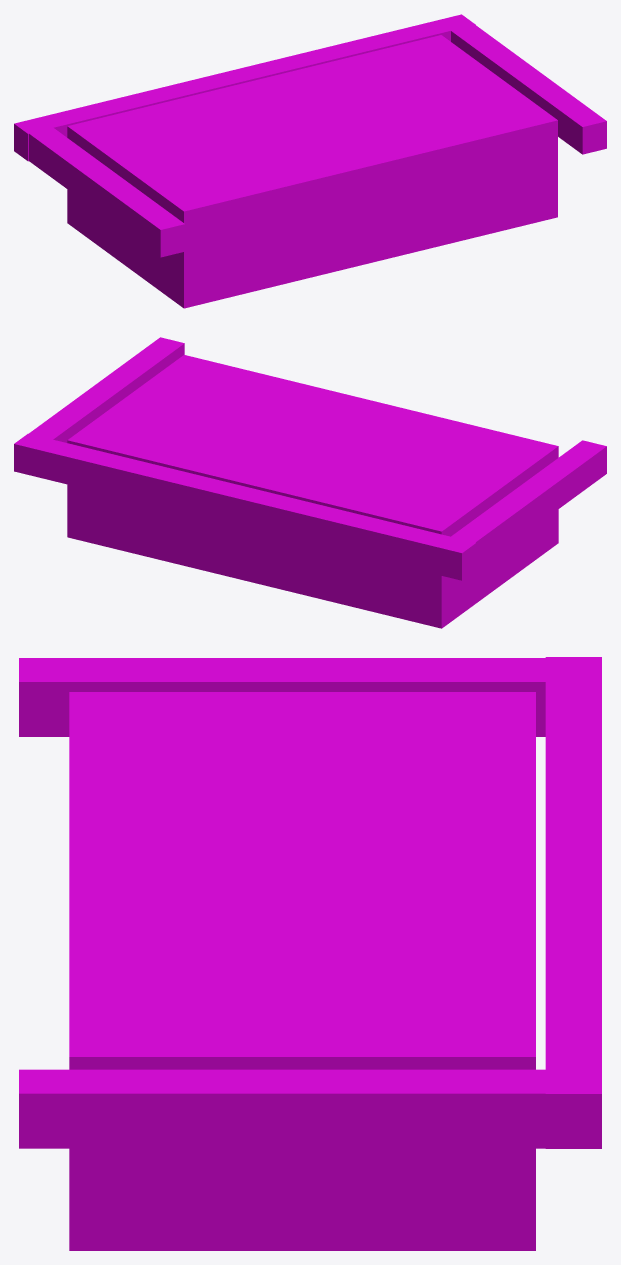
The model's file is SM_MedicalTrayBoomTrayCollider.fbx.
3 renders of one model, top to bottom at view 1: azimuth 30°, elevation 25°; view 2: azimuth 150°, elevation 25°; view 3: azimuth 270°, elevation 25°, orthographic. The views are drawn at different scales.
Parts seen in each view (by area): view 1: MedicalTrayBoomTrayCollision; view 2: MedicalTrayBoomTrayCollision; view 3: MedicalTrayBoomTrayCollision.
Boxes of the visible parts, bbox=[...] form: MedicalTrayBoomTrayCollision: bbox=[14, 14, 606, 308]; MedicalTrayBoomTrayCollision: bbox=[14, 337, 606, 628]; MedicalTrayBoomTrayCollision: bbox=[19, 657, 601, 1250].
Size of the model in its own units: 51.2 by 10.6 by 28.87.
